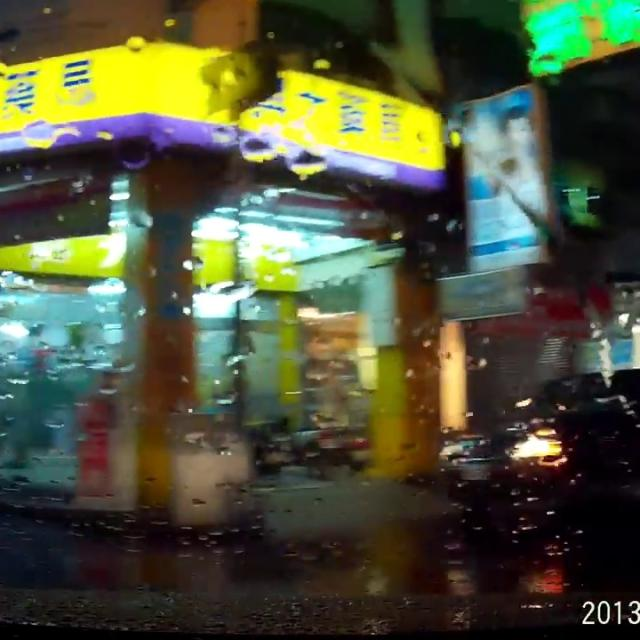Car: (435, 370, 639, 505)
